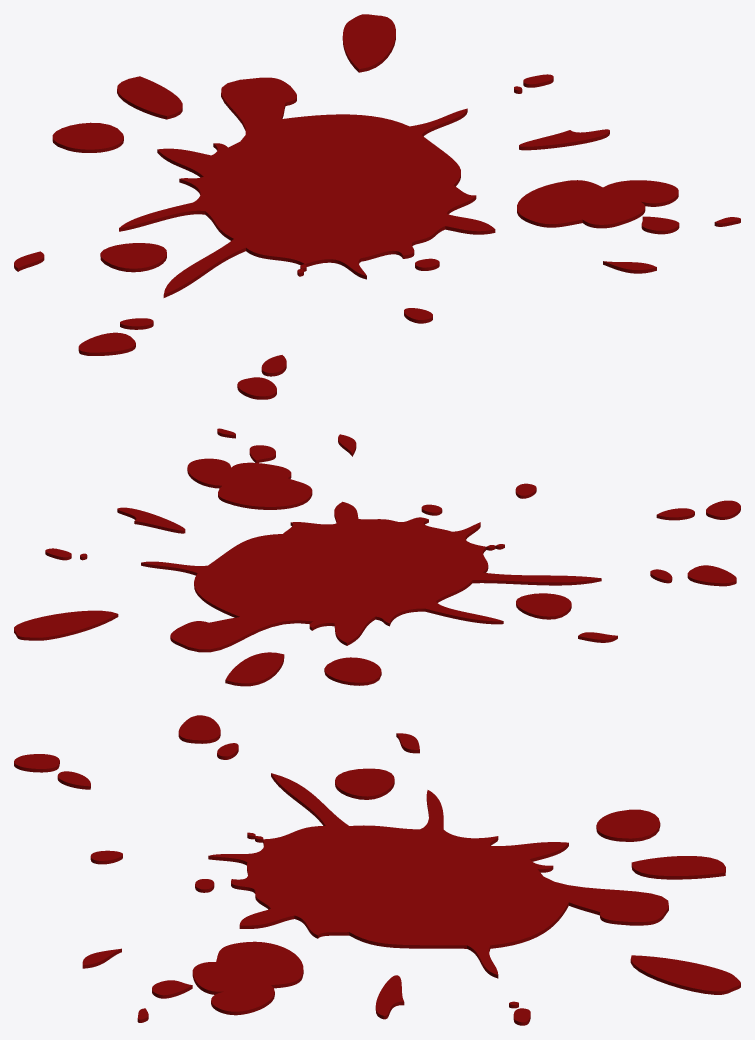
The model's file is blood_spot.fbx.
3 renders of one model, top to bottom at view 1: azimuth 30°, elevation 25°; view 2: azimuth 150°, elevation 25°; view 3: azimuth 270°, elevation 25°, orthographic. The views are drawn at different scales.
Parts seen in each view (by area): view 1: Curve; view 2: Curve; view 3: Curve.
Part boxes in pixels (bbox=[...]): Curve: bbox=[14, 14, 740, 399]; Curve: bbox=[14, 428, 740, 686]; Curve: bbox=[14, 715, 740, 1025].
Bounding box in the file's own units: 21.43 × 0.114 × 21.44.
